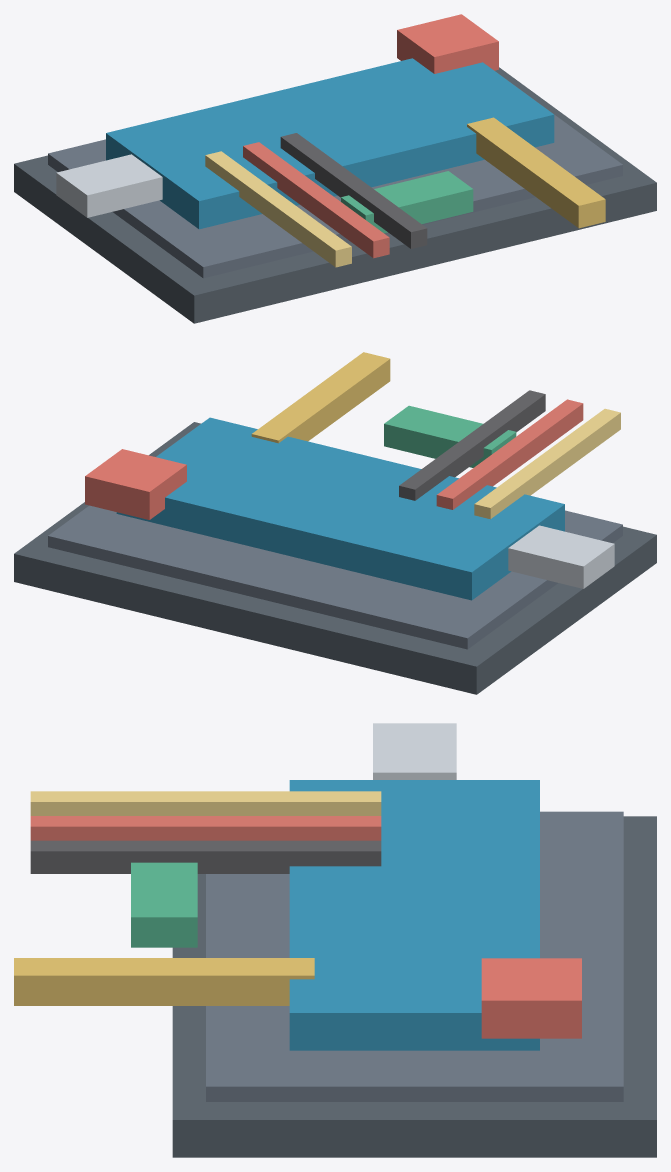
The model's file is real-shock-esp32-case-concept.glb.
3 renders of one model, top to bottom at view 1: azimuth 30°, elevation 25°; view 2: azimuth 150°, elevation 25°; view 3: azimuth 270°, elevation 25°, orthographic. The views are drawn at different scales.
Bounding box in the file's own units: 92 × 17 × 77.
